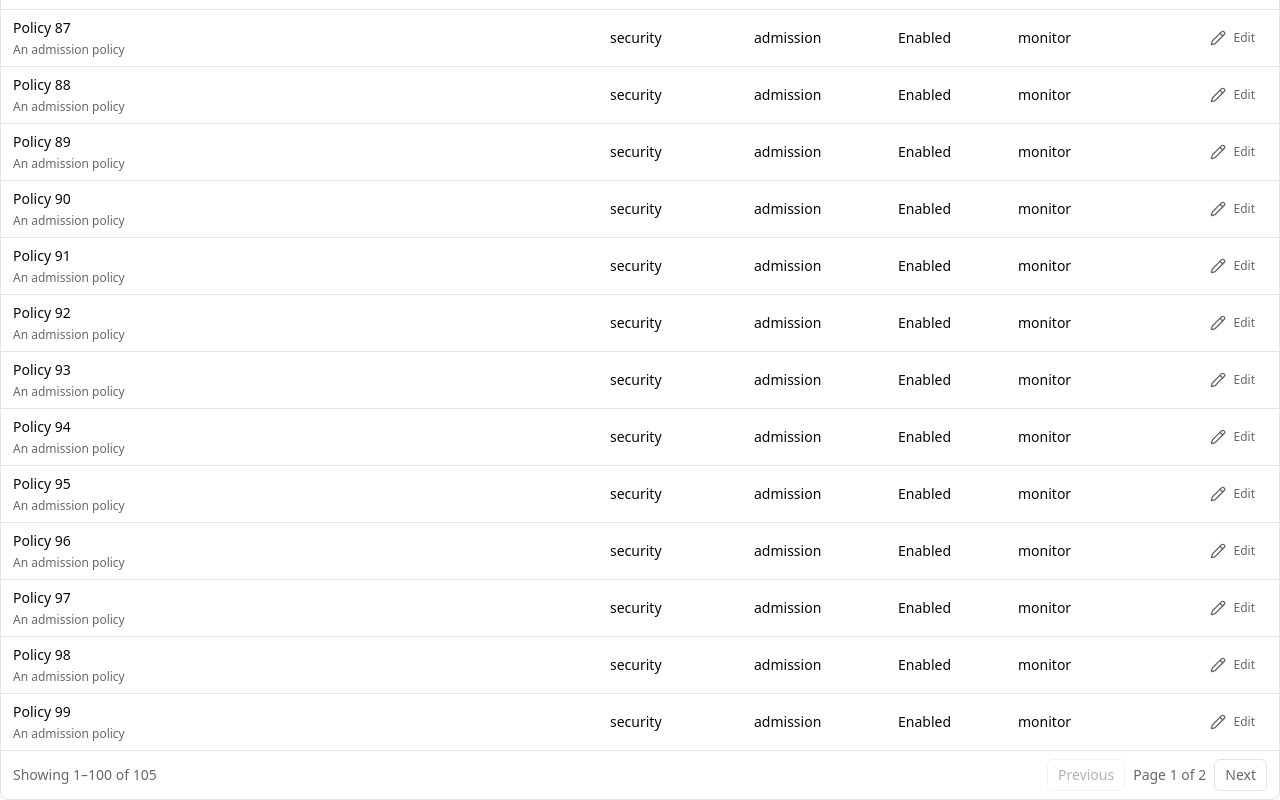
Test: makes every loaded policy accessible using the shared table pagination
(page scrolled)
Step 1. Click the button "Next" → point(1241, 774), box [1214, 758, 1267, 790]
(page scrolled)
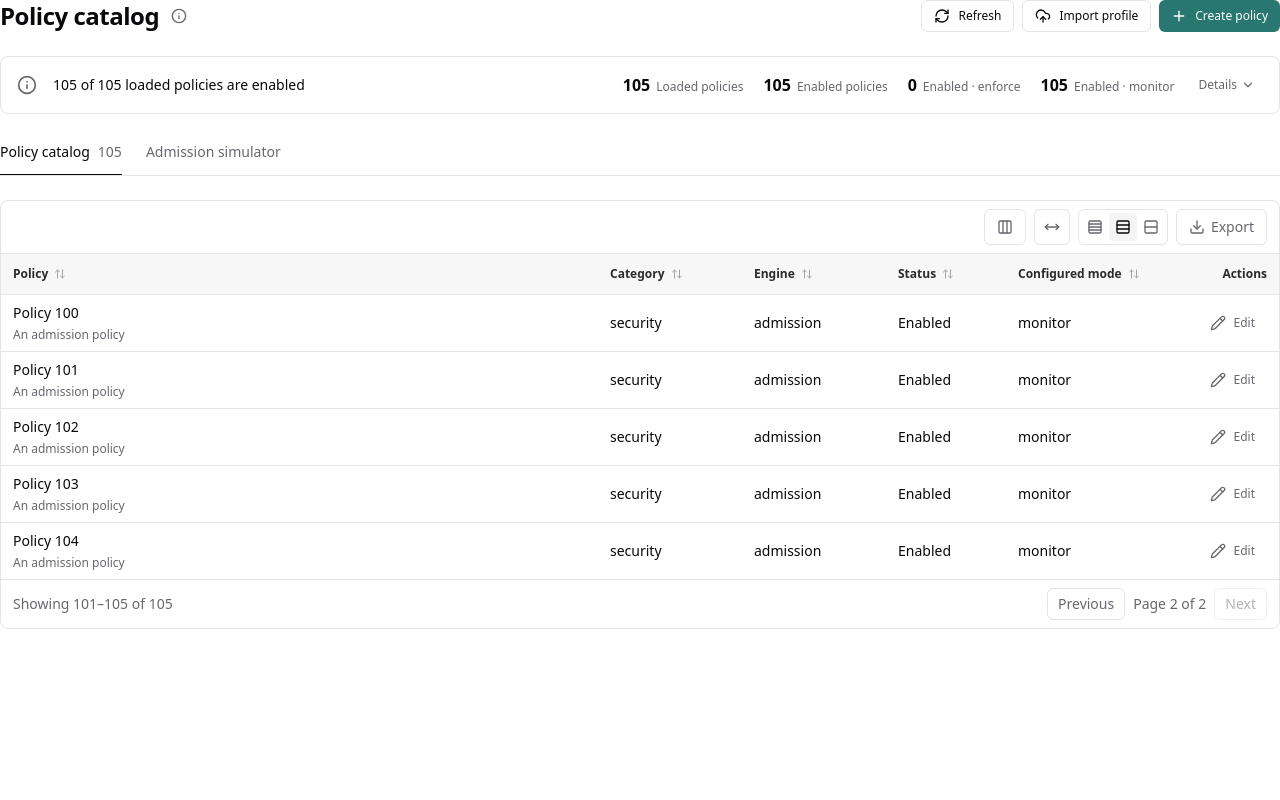
expect the button "Export" is shown: met, box [1176, 209, 1267, 245]
expect the text "Policy 104" is shown: met, box [13, 530, 79, 550]
